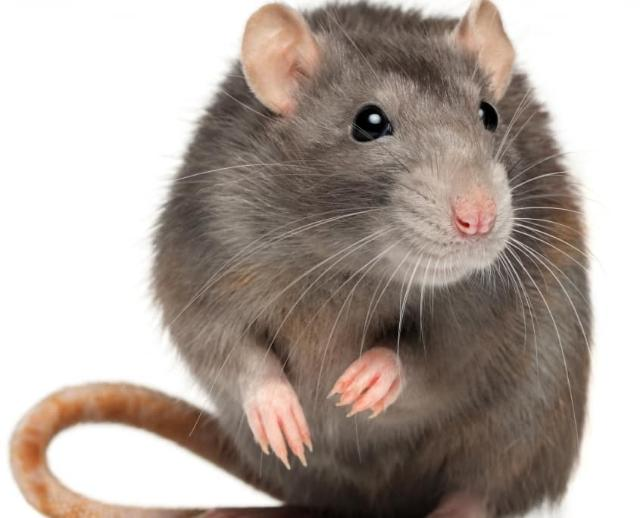rat: (5, 0, 603, 518)
